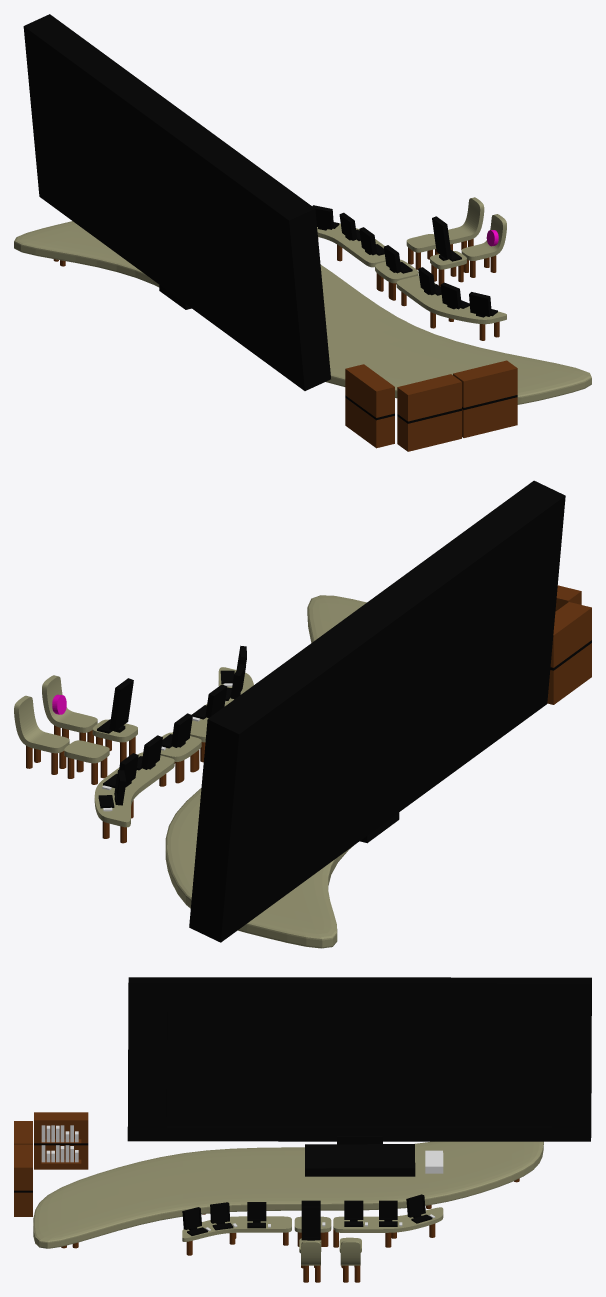
File: libarabyV2.fbx
3 renders of one model, top to bottom at view 1: azimuth 30°, elevation 25°; view 2: azimuth 150°, elevation 25°; view 3: azimuth 270°, elevation 25°, orthographic. The views are drawn at different scales.
Parts seen in each view (by area): view 1: Plane.016, Plane, Cube.003, Cube, Cube.020, Plane.021, Plane.031, Plane.014, Plane.011, Cube.052; view 2: Plane.016, Plane, Cube.020, Plane.031, Plane.014, Plane.011, Cube.052, Plane.009, Plane.021; view 3: Plane.016, Plane, Plane.079, Cube.020, Cube, Plane.031, Plane.021, Cube.052, Plane.014, Plane.011, Cube.003, Plane.080.
Boxes of the visible parts, bbox=[...] form: Plane.016: bbox=[23, 14, 330, 390]; Plane: bbox=[14, 221, 591, 404]; Cube.003: bbox=[397, 374, 461, 451]; Cube: bbox=[453, 360, 517, 437]; Cube.020: bbox=[345, 364, 394, 448]; Plane.021: bbox=[396, 275, 506, 324]; Plane.031: bbox=[317, 223, 385, 267]; Plane.014: bbox=[448, 197, 484, 244]; Plane.011: bbox=[461, 214, 506, 260]; Cube.052: bbox=[432, 216, 451, 259]; Plane.016: bbox=[189, 480, 565, 942]; Plane: bbox=[165, 595, 366, 948]; Cube.020: bbox=[547, 602, 591, 704]; Plane.031: bbox=[94, 752, 174, 827]; Plane.014: bbox=[14, 695, 69, 753]; Plane.011: bbox=[42, 675, 97, 732]; Cube.052: bbox=[109, 678, 133, 731]; Plane.009: bbox=[64, 740, 109, 763]; Plane.021: bbox=[190, 667, 253, 742]; Plane.016: bbox=[127, 977, 591, 1141]; Plane: bbox=[33, 1141, 543, 1248]; Plane.079: bbox=[305, 1144, 415, 1176]; Cube.020: bbox=[34, 1112, 88, 1169]; Cube: bbox=[14, 1144, 32, 1216]; Plane.031: bbox=[333, 1207, 443, 1232]; Plane.021: bbox=[182, 1216, 291, 1241]; Cube.052: bbox=[301, 1206, 320, 1240]; Plane.014: bbox=[340, 1240, 360, 1265]; Plane.011: bbox=[301, 1240, 320, 1265]; Cube.003: bbox=[14, 1121, 32, 1144]; Plane.080: bbox=[425, 1150, 443, 1173].
Bounding box in the file's own units: 3839 × 2103 × 6135.
